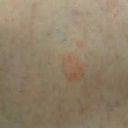Actinic: (61, 54, 88, 86)
